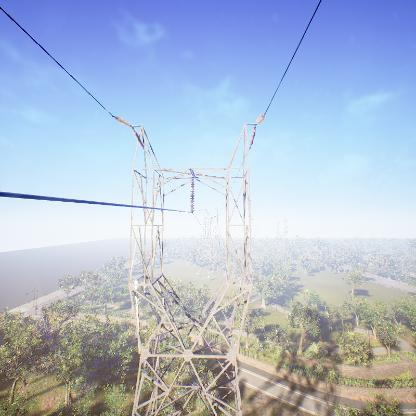tower: (111, 115, 266, 416)
